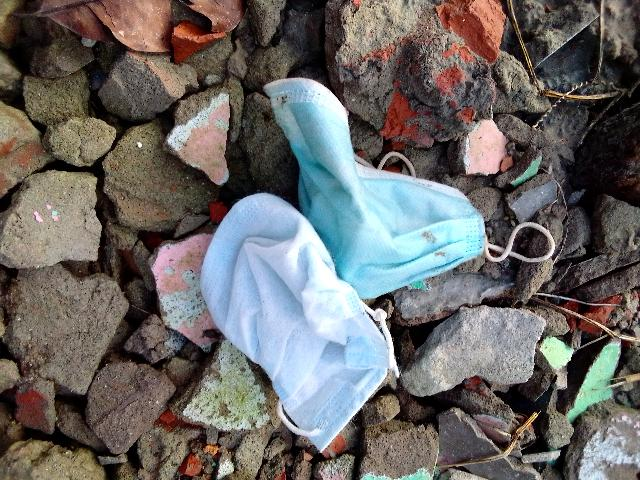mask: (256, 62, 467, 279), (209, 187, 369, 413)
